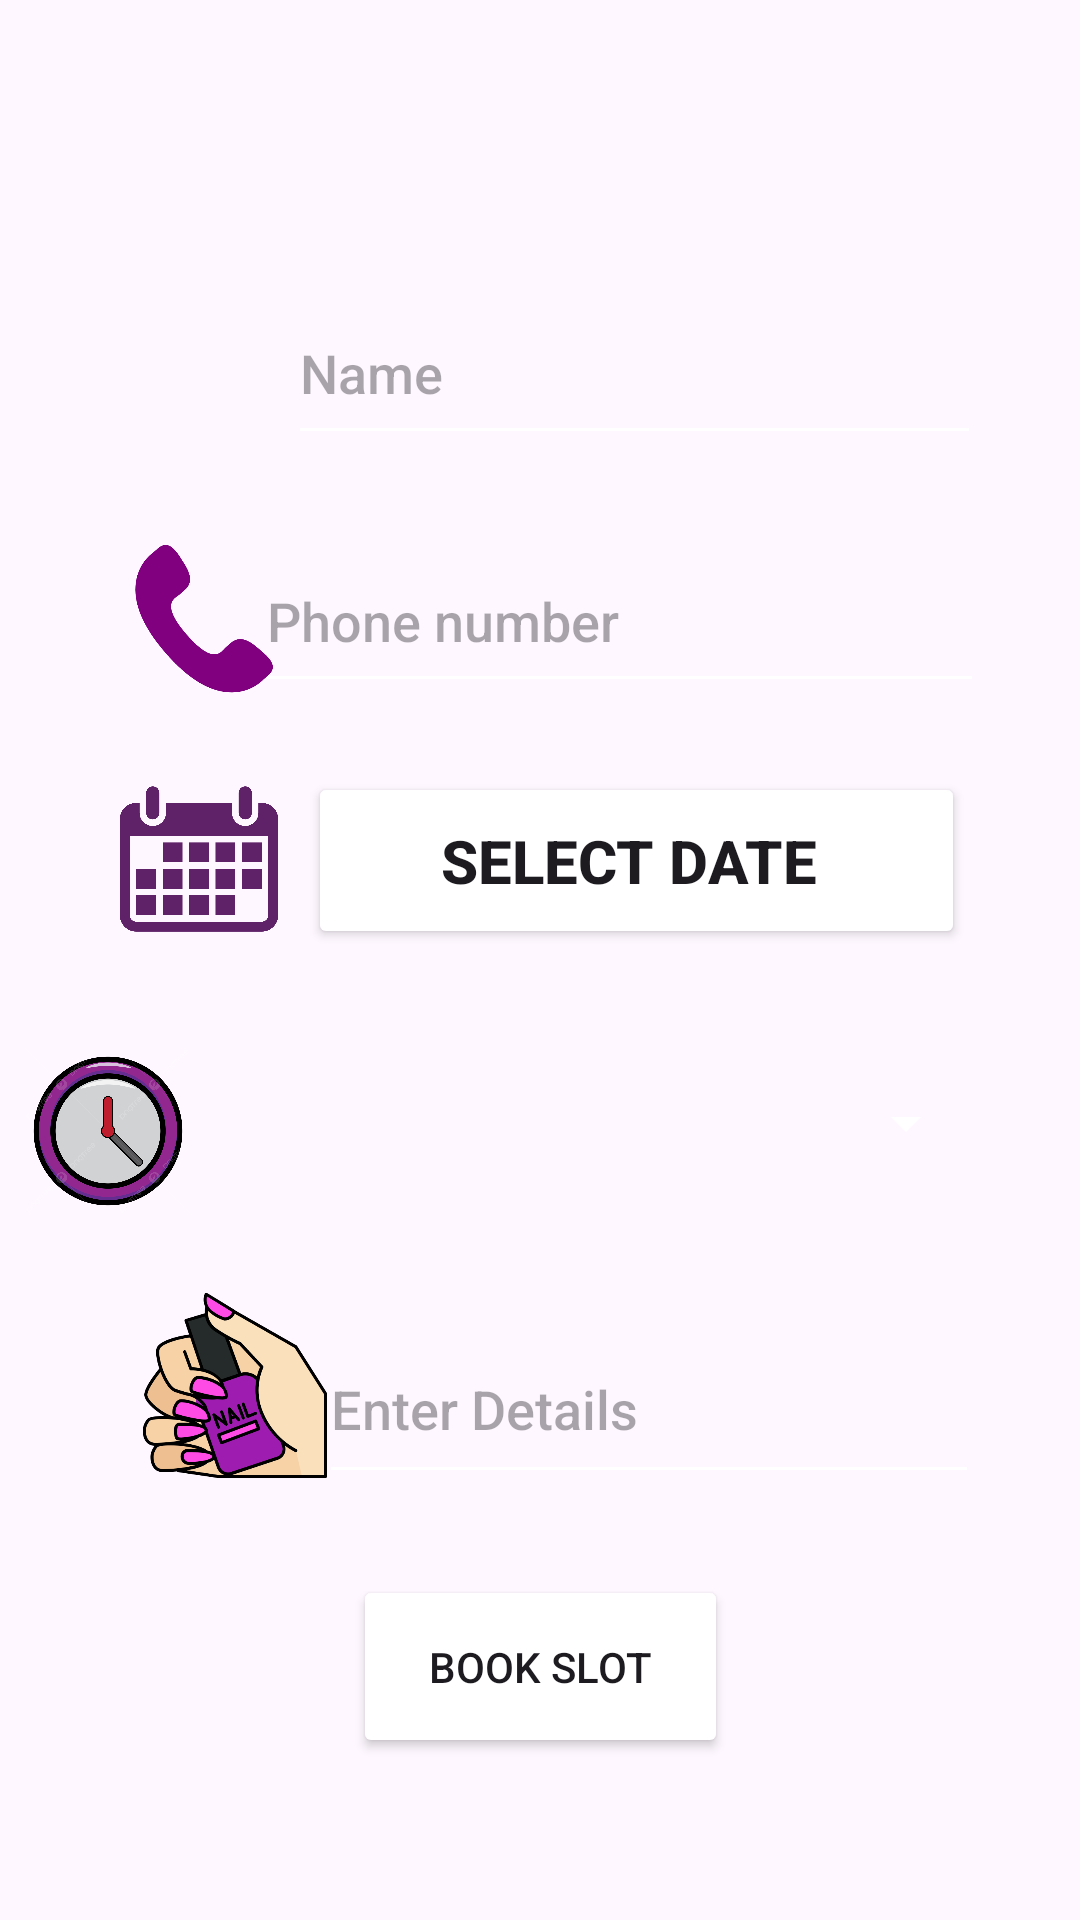

Screen size 1080*1920. Icon name, then its box in pixels as (x1, y1, x2, y2):
time: (33, 1056, 183, 1206)
